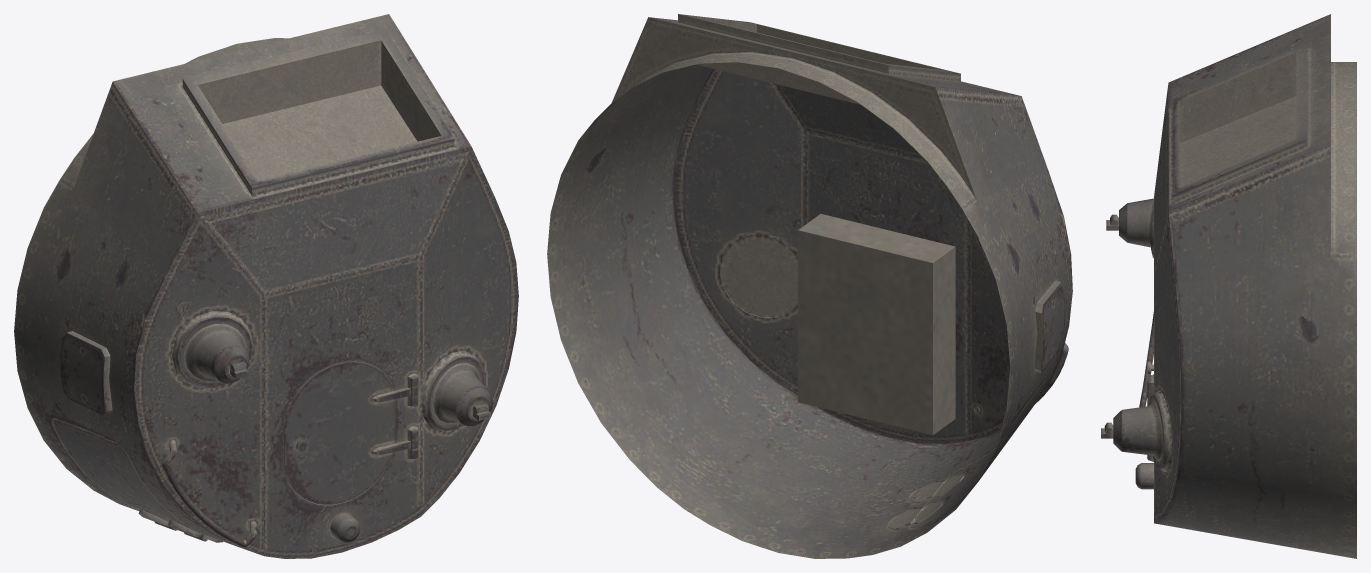
Rendered from Turret_01.glb.
3 renders of one model, left to right at view 1: azimuth 30°, elevation 25°; view 2: azimuth 150°, elevation 25°; view 3: azimuth 270°, elevation 25°, orthographic. The views are drawn at different scales.
Parts seen in each view (by area): view 1: set_0_group_0; view 2: set_0_group_0; view 3: set_0_group_0.
Boxes of the visible parts, bbox=[...] form: set_0_group_0: bbox=[14, 14, 518, 558]; set_0_group_0: bbox=[547, 14, 1072, 558]; set_0_group_0: bbox=[1101, 14, 1356, 558].
Size of the model in its own units: 1.64 by 1.66 by 0.8415.
Materials: 1 (1 with a texture image).
